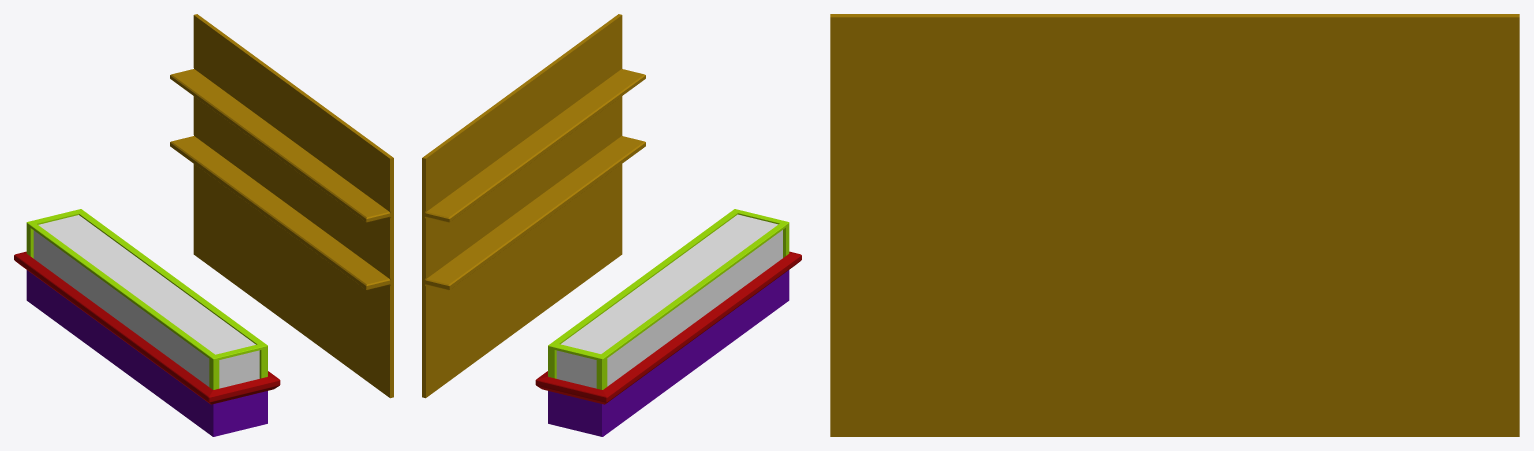
File: PrizeBar.fbx
3 views of the same model, side by side, from view 1: azimuth 30°, elevation 25°; view 2: azimuth 150°, elevation 25°; view 3: azimuth 270°, elevation 25° (orthographic). The views are drawn at different scales.
Parts seen in each view (by area): view 1: pCube2, pCube1; view 2: pCube2, pCube1; view 3: pCube2.
Part boxes in pixels (x1=…): pCube2: x1=170, y1=14, x2=393, y2=398; pCube1: x1=14, y1=209, x2=280, y2=436; pCube2: x1=422, y1=14, x2=645, y2=398; pCube1: x1=535, y1=209, x2=801, y2=436; pCube2: x1=830, y1=14, x2=1519, y2=436.
Bounding box in the file's own units: 10.96 × 13.63 × 20.26.
